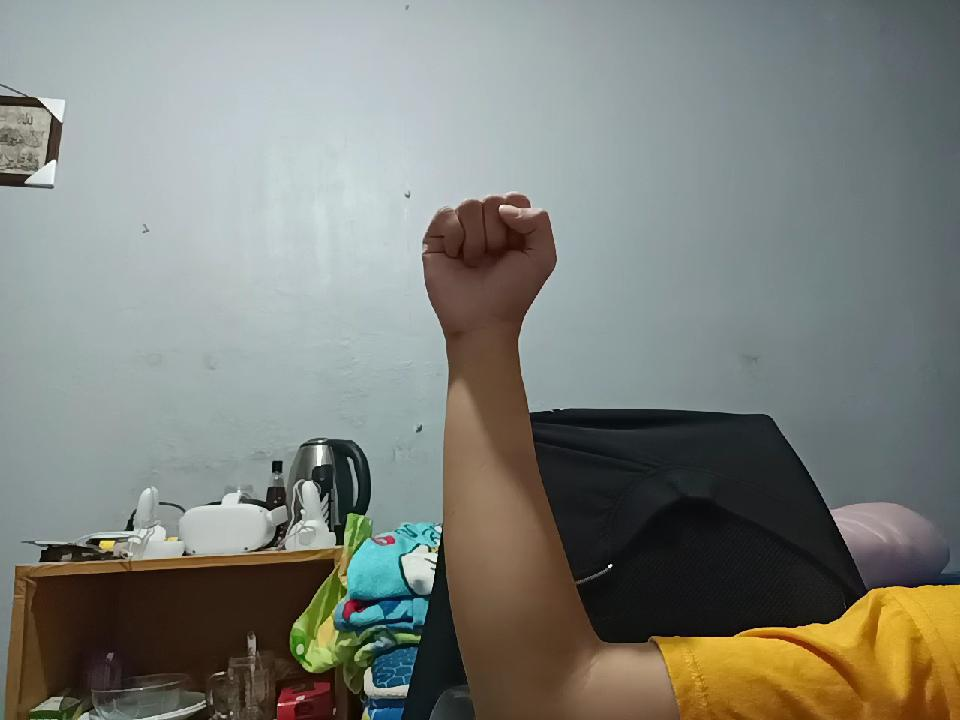rock: (413, 179, 569, 339)
